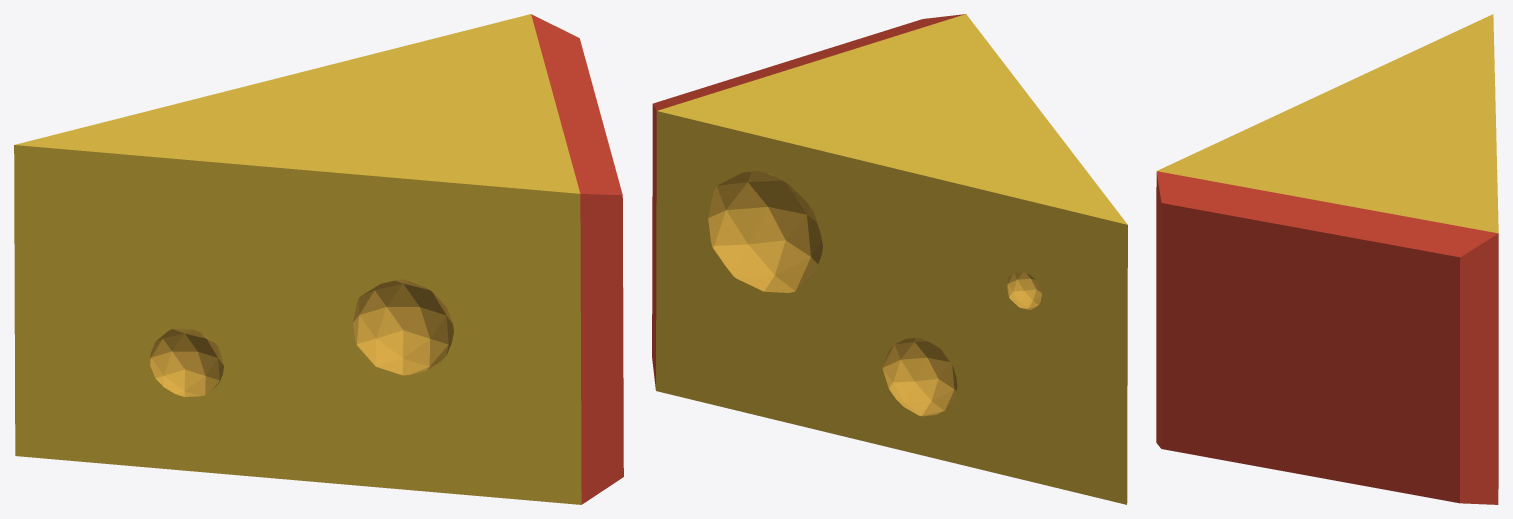
File: Cheese (uneaten).fbx
3 renders of one model, left to right at view 1: azimuth 30°, elevation 25°; view 2: azimuth 150°, elevation 25°; view 3: azimuth 270°, elevation 25°, orthographic. The views are drawn at different scales.
Visible parts, largest first — view 1: Uneaten cheese; view 2: Uneaten cheese; view 3: Uneaten cheese.
Boxes of the visible parts, x1,y1,x2,y2 form: Uneaten cheese: (14, 14, 623, 504); Uneaten cheese: (652, 14, 1127, 504); Uneaten cheese: (1156, 14, 1498, 504).
Size of the model in its own units: 368 by 201 by 229.
1 material, 1 textured.
